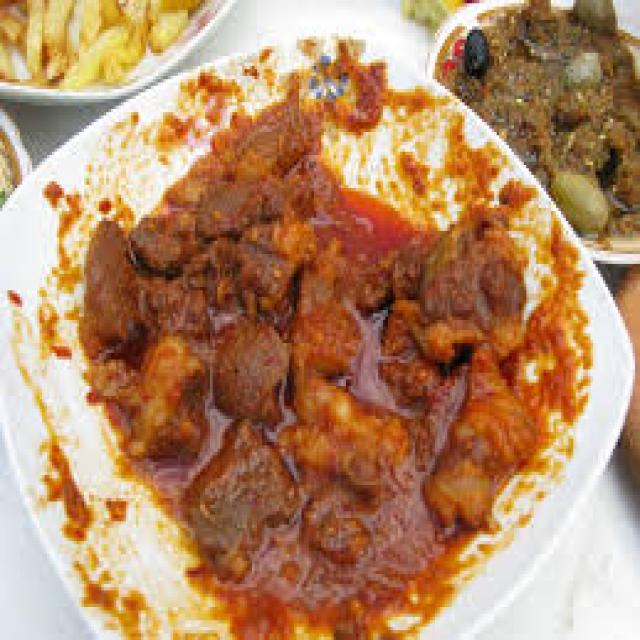kamouniya: (92, 98, 575, 621)
